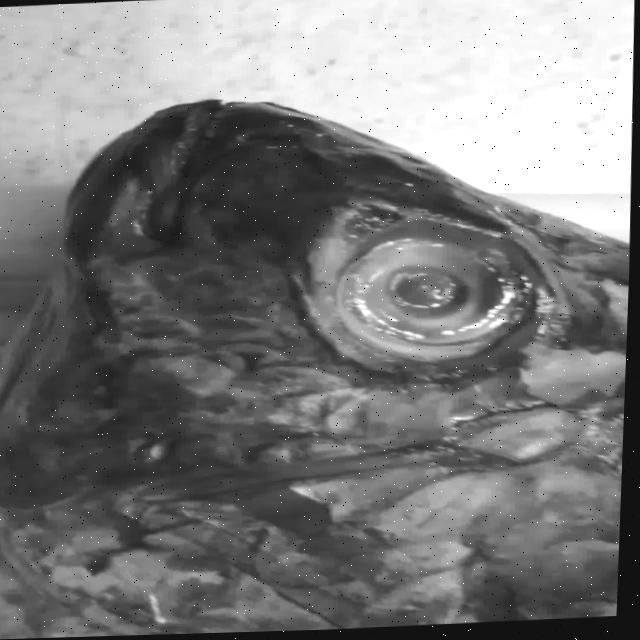Non-Fresh: (298, 206, 558, 384)
